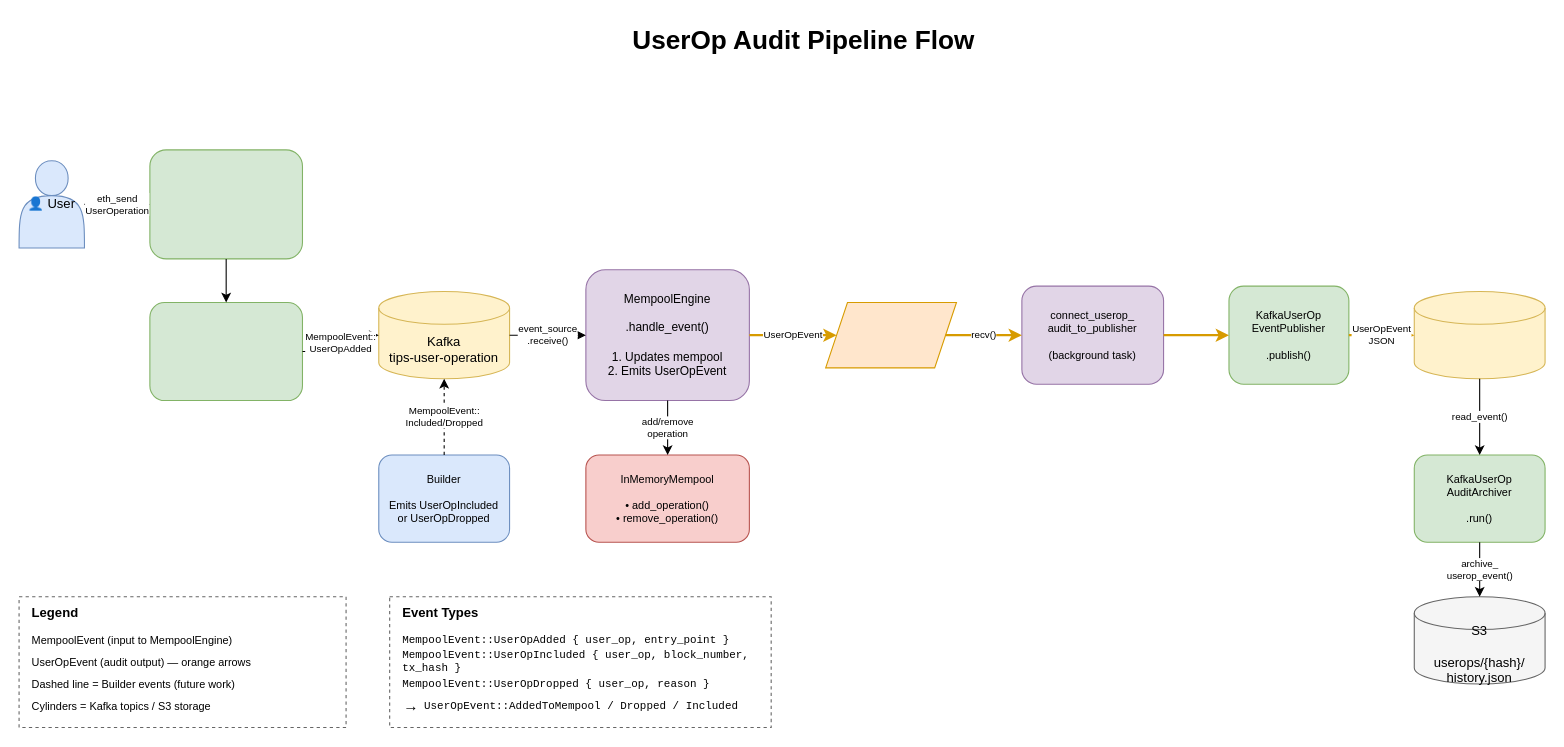
Some shapes in this 1564 by 747 pixel diagram are drawn without their labels. The box of each missing label's shape, as (x1, y1, x2, y2) in pixels:
Kafka tips-userop-audit: (1413, 290, 1545, 379)
mpsc::channel (audit_sender): (825, 301, 956, 368)
tips-ingress-rpc IngressService .send_user_operation(): (149, 149, 302, 259)
UserOpQueuePublisher .publish() Creates MempoolEvent:: UserOpAdded: (149, 301, 302, 401)
